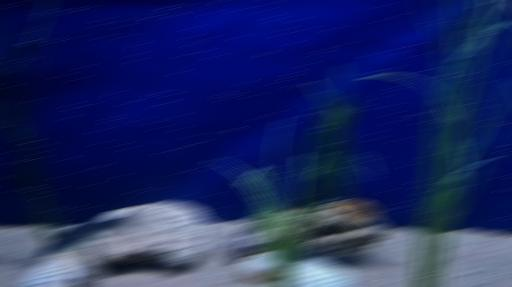Fish: (38, 213, 141, 255)
